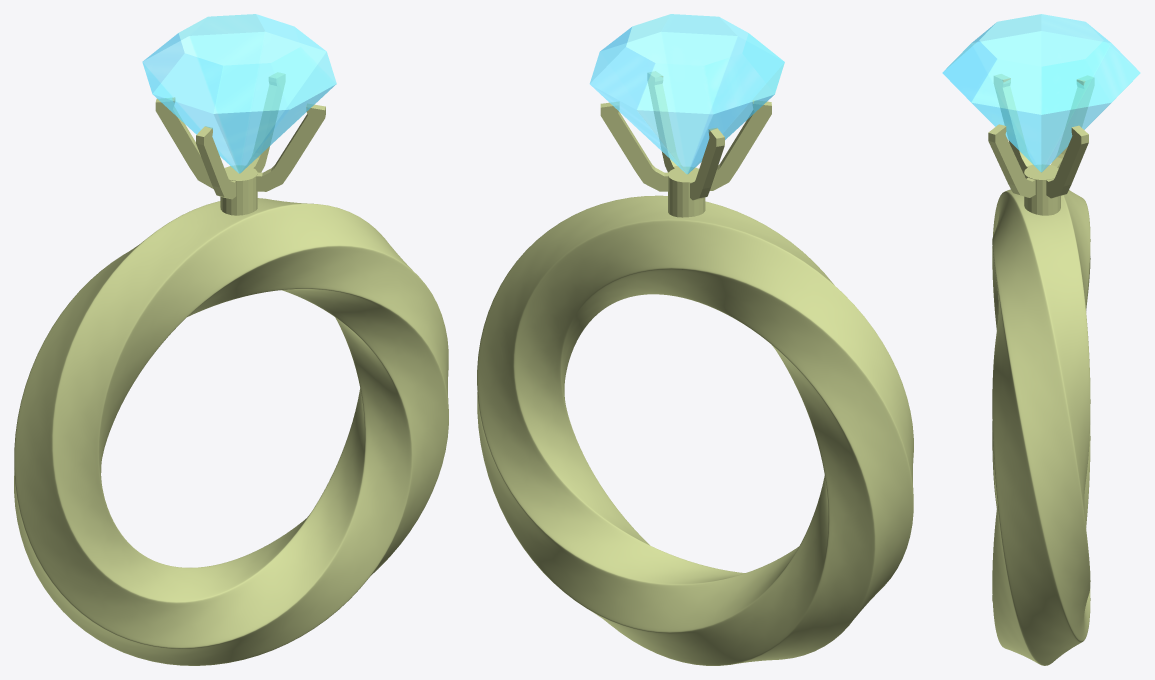
File: f_ring2.glb
The picture shows the model from 3 angles, left to right: view 1: azimuth 30°, elevation 25°; view 2: azimuth 150°, elevation 25°; view 3: azimuth 270°, elevation 25°; orthographic projection.
Visible parts, largest first — view 1: node_id103_4, node_id119_9, node_id111_8, node_id114_0, node_id108_7; view 2: node_id103_4, node_id119_9, node_id114_0, node_id111_8, node_id108_7; view 3: node_id103_4, node_id119_9, node_id114_0, node_id111_8, node_id108_7.
Part boxes in pixels (x1,y1,x2,y2): node_id103_4: (14,198,448,665); node_id119_9: (142,14,336,173); node_id111_8: (155,97,325,191); node_id114_0: (196,72,285,199); node_id108_7: (220,165,257,215); node_id103_4: (477,195,913,665); node_id119_9: (589,14,784,174); node_id114_0: (600,100,771,191); node_id111_8: (647,71,724,200); node_id108_7: (668,167,705,217); node_id103_4: (992,189,1090,665); node_id119_9: (942,14,1140,172); node_id114_0: (994,74,1088,198); node_id111_8: (988,75,1094,197); node_id108_7: (1024,164,1060,215).
Size of the model in its own units: 0.3599 by 0.4853 by 0.1453.
Materials: 5 (1 with a texture image).
